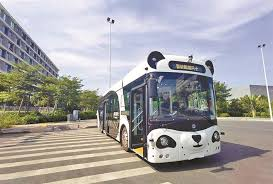bus: (97, 51, 223, 164)
